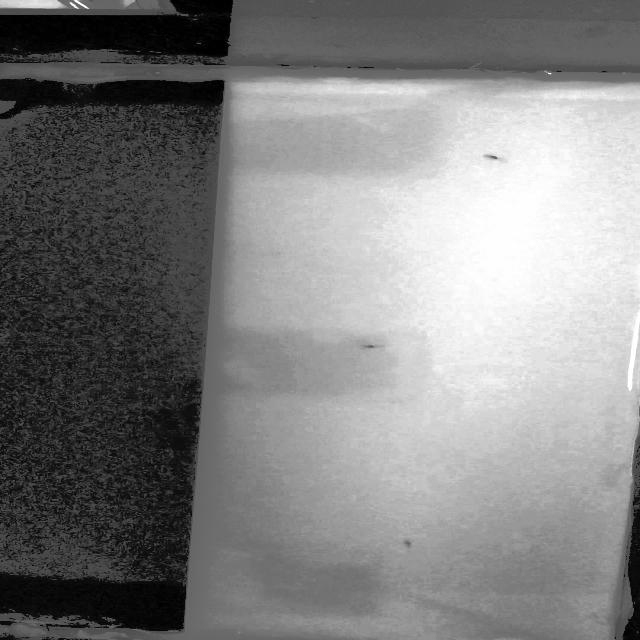shrimp: (479, 150, 517, 162), (397, 535, 418, 553), (356, 340, 390, 351)
